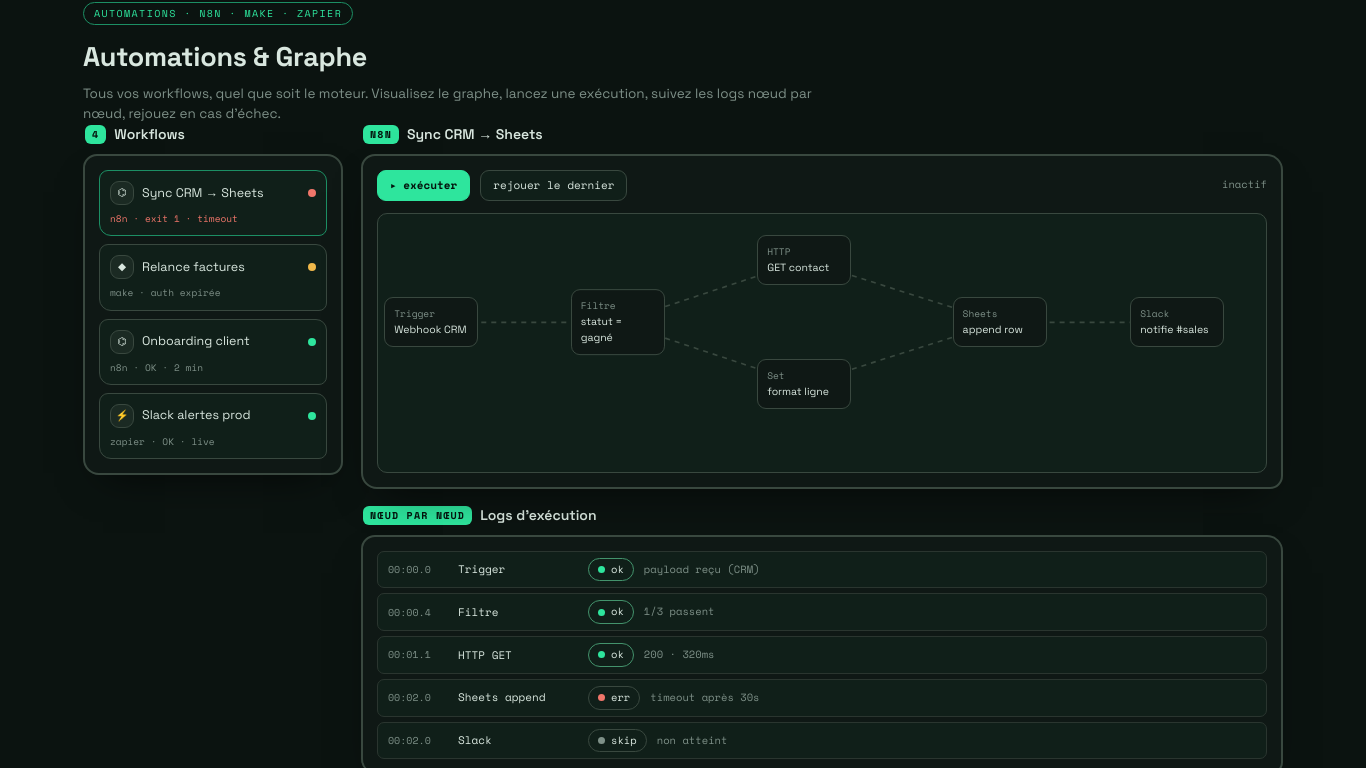
Test: AutomationsView › lance une exécution
Click the button "▸ exécuter" at (424, 185), box [377,170,470,200]
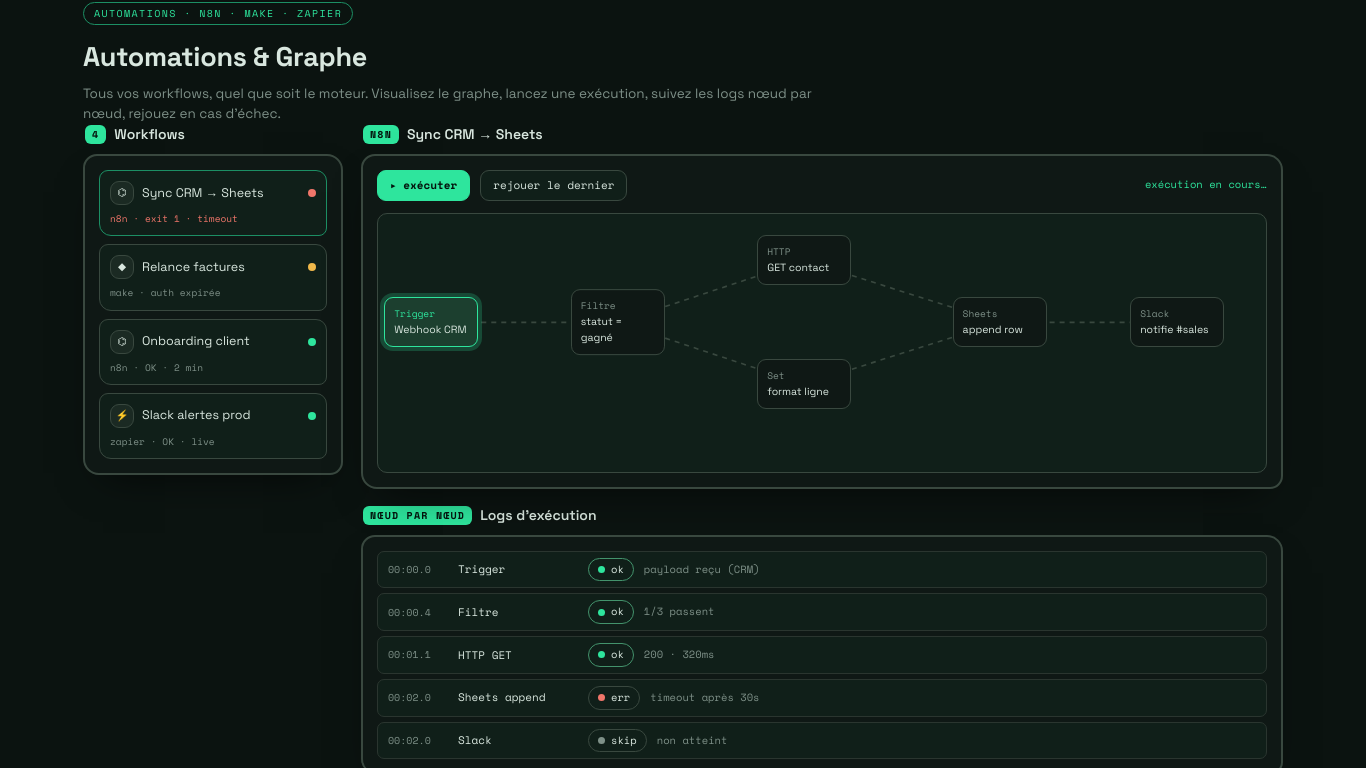
Now the text "exécution en cours" is shown, box [1145,176,1267,192]
